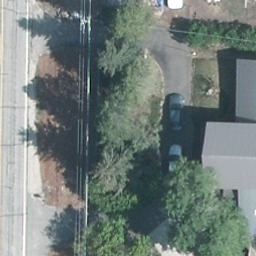car: (168, 95, 188, 131), (167, 145, 184, 183)
pickup: (164, 0, 185, 11)
